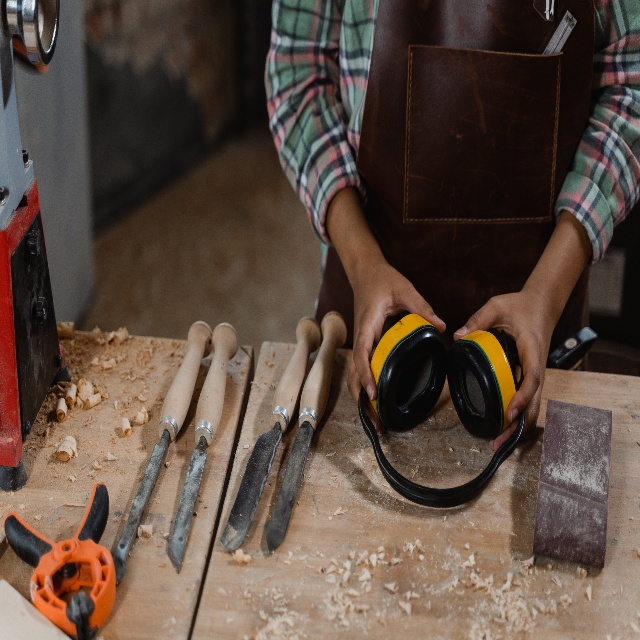Sin_guantes: (452, 280, 551, 452), (347, 270, 448, 435)
